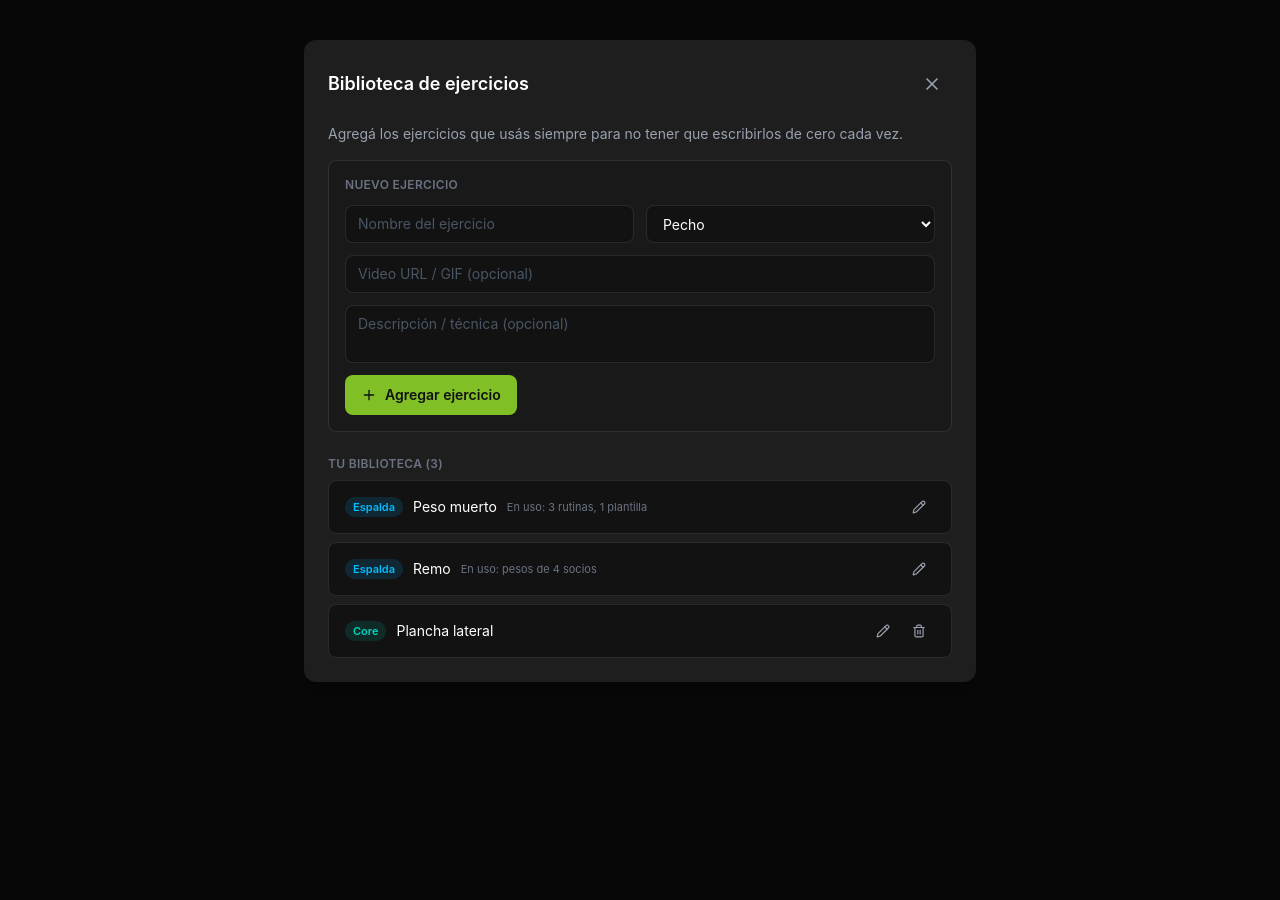
Test: Biblioteca -- borrar un ejercicio sin uso › pide confirmación con un texto que dice la verdad, y al aceptar lo borra y recarga
Check: the text "Peso muerto" is shown, box [413,497,497,517]
Click the button named "Eliminar Plancha lateral": click(919, 631) [903,615,935,647]
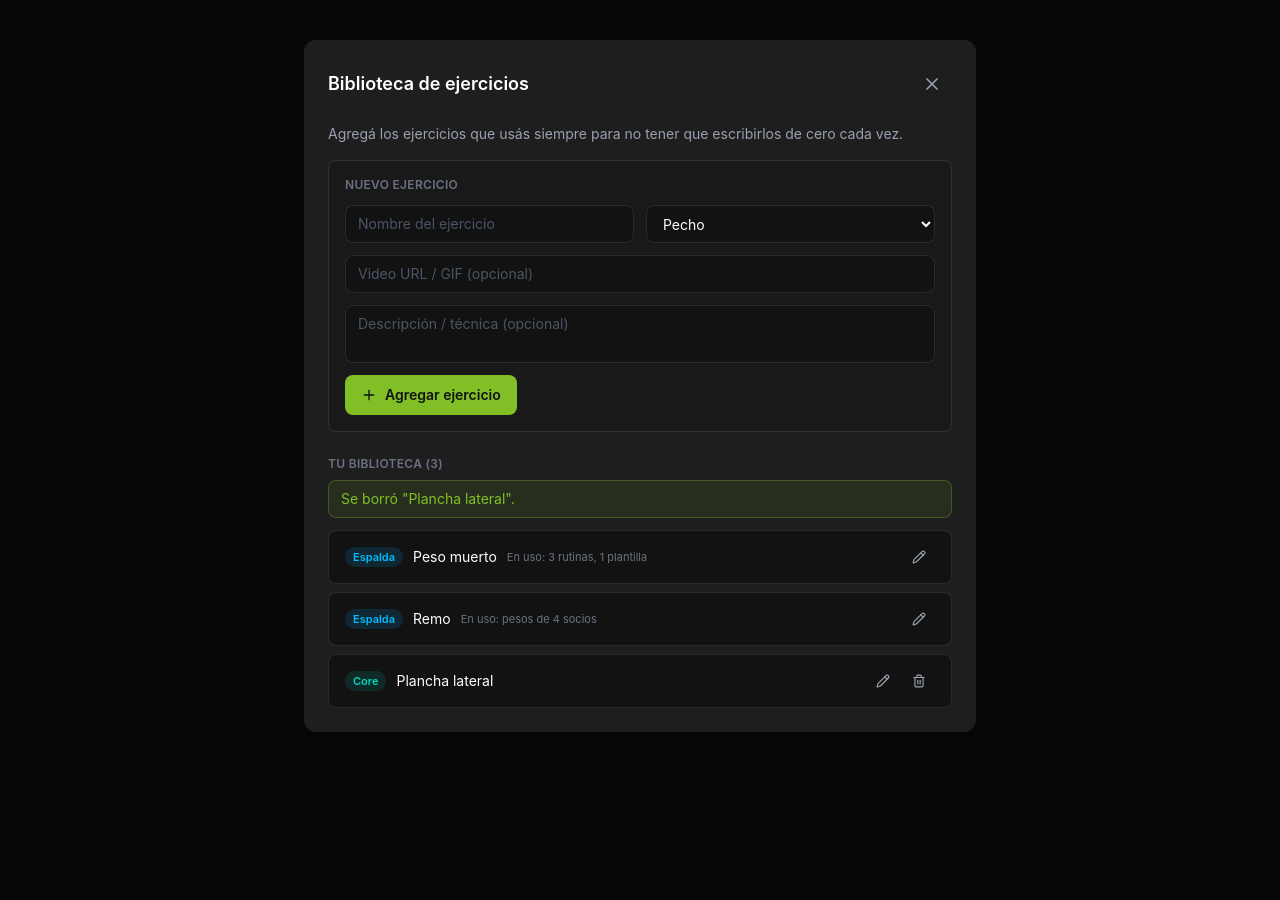
Check: the message reads "Se borró \"Plancha lateral\".", box [341,490,515,507]
